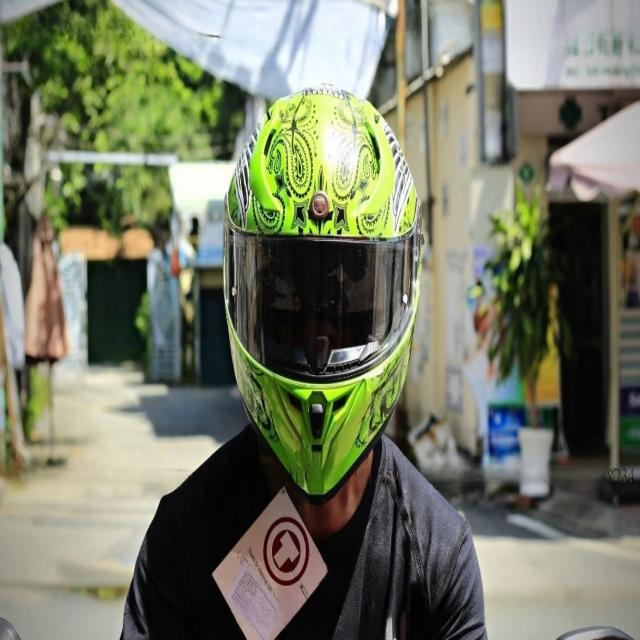Helmet: (219, 82, 427, 504)
